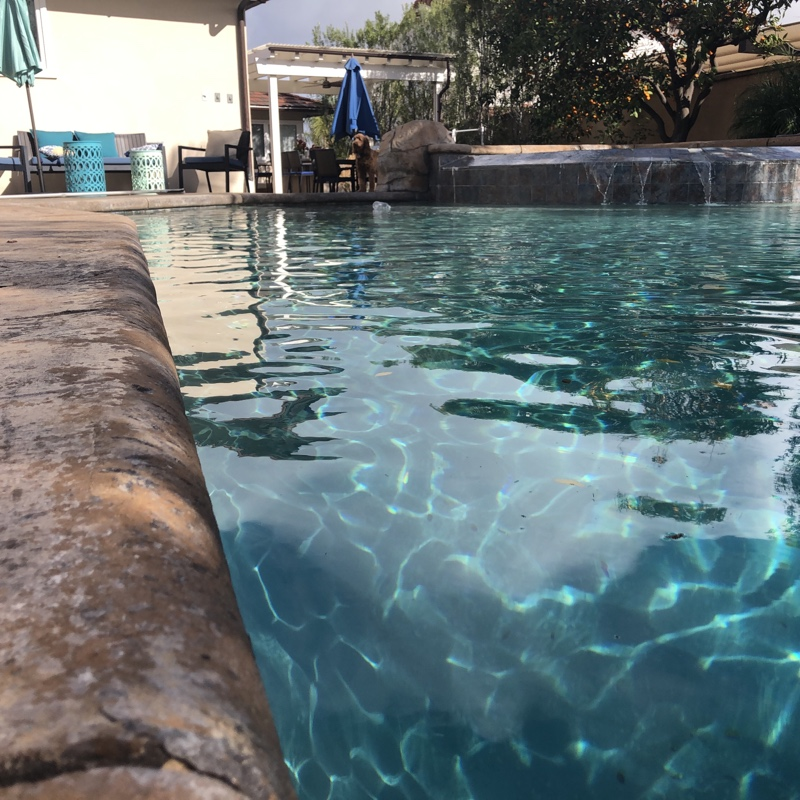Plastic Bottle: (371, 197, 392, 220)
